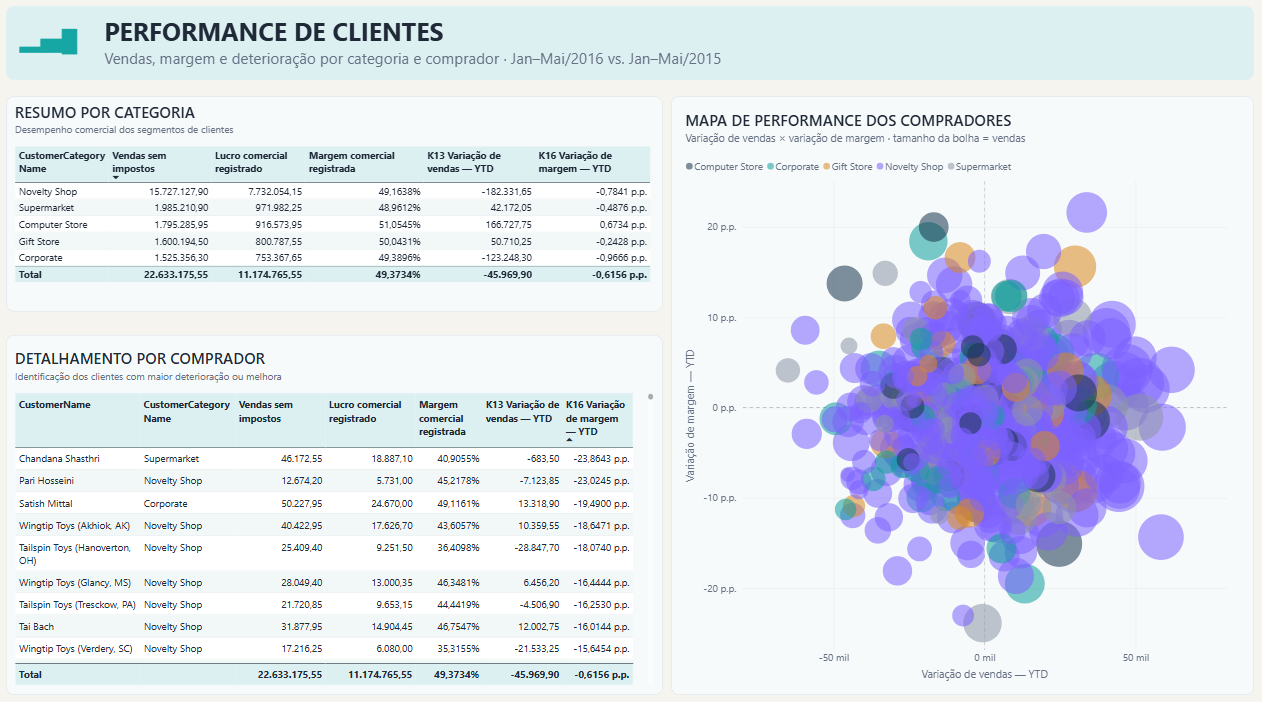

Layout of this report page (visuals, bound fields, positions):
{"tool":"powerbi","page":{"name":"03_Q03_Clientes","canvas":[1920,1080],"ordinal":3},"visuals":[{"type":"tableEx","title":"RESUMO POR CATEGORIA","fields":{"Values":["DimBuyer.CustomerCategoryName","_Medidas.Vendas sem impostos","_Medidas.Lucro comercial registrado","_Medidas.Margem comercial registrada","_Medidas.K13 Variação de vendas — YTD","_Medidas.K16 Variação de margem — YTD"]},"box":[31.8,151.7,983,322.1],"z":0},{"type":"tableEx","title":"DETALHAMENTO POR COMPRADOR","fields":{"Values":["DimBuyer.CustomerName","DimBuyer.CustomerCategoryName","_Medidas.Vendas sem impostos","_Medidas.Lucro comercial registrado","_Medidas.Margem comercial registrada","_Medidas.K13 Variação de vendas — YTD","_Medidas.K16 Variação de margem — YTD"]},"box":[31.8,509.3,983,539.3],"z":1000},{"type":"scatterChart","title":"MAPA DE PERFORMANCE DOS COMPRADORES","fields":{"Category":["DimBuyer.CustomerName"],"Series":["DimBuyer.CustomerCategoryName"],"Size":["_Medidas.Vendas sem impostos"],"X":["_Medidas.K13 Variação de vendas — YTD"],"Y":["_Medidas.K16 Variação de margem — YTD"]},"box":[1028,151.7,872.5,896.9],"z":2000},{"type":"textbox","box":[31.8,16.9,1868.7,110.5],"z":10000},{"type":"textbox","box":[50.6,43.1,110.5,73],"z":11000}]}

Visuals, with their boxes in screenshot pixels (x1, y1, x2, y2), scaled from the page's 1920x1080 canvas onto the 1262x702 screenshot:
"RESUMO POR CATEGORIA" tableEx: [21,99,667,308]
"DETALHAMENTO POR COMPRADOR" tableEx: [21,331,667,682]
"MAPA DE PERFORMANCE DOS COMPRADORES" scatterChart: [676,99,1249,682]
textbox: [21,11,1249,83]
textbox: [33,28,106,75]
